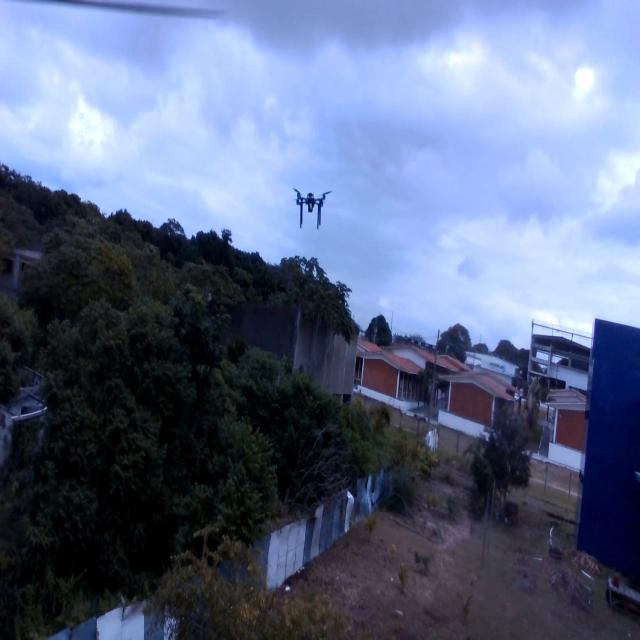-uav-: (289, 173, 333, 237)
